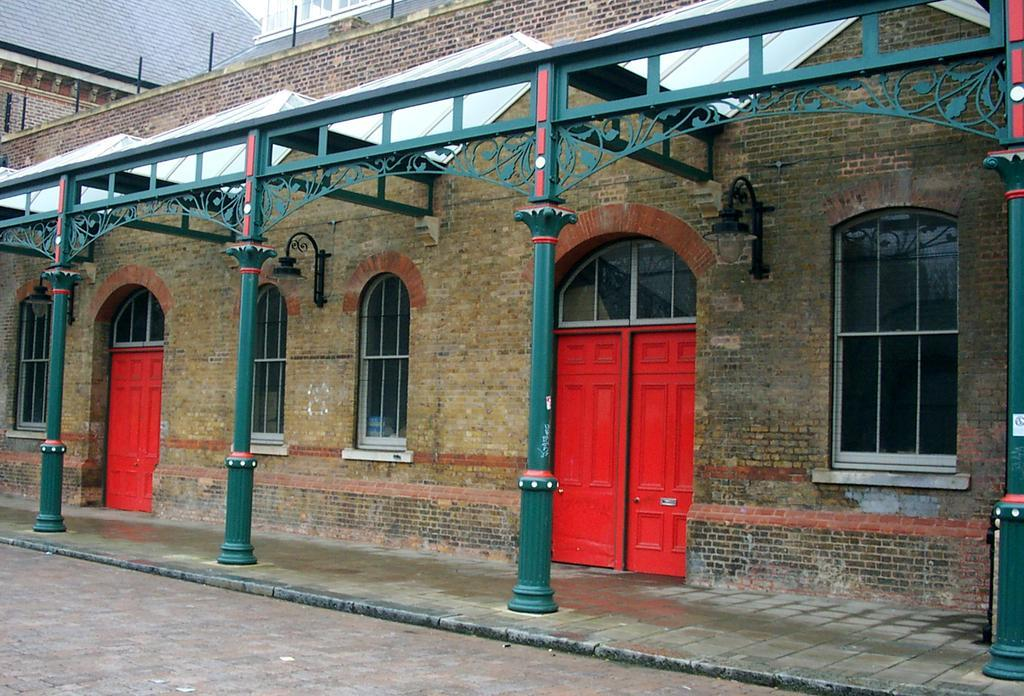door: (632, 336, 700, 566), (544, 343, 618, 550), (111, 359, 163, 506)
